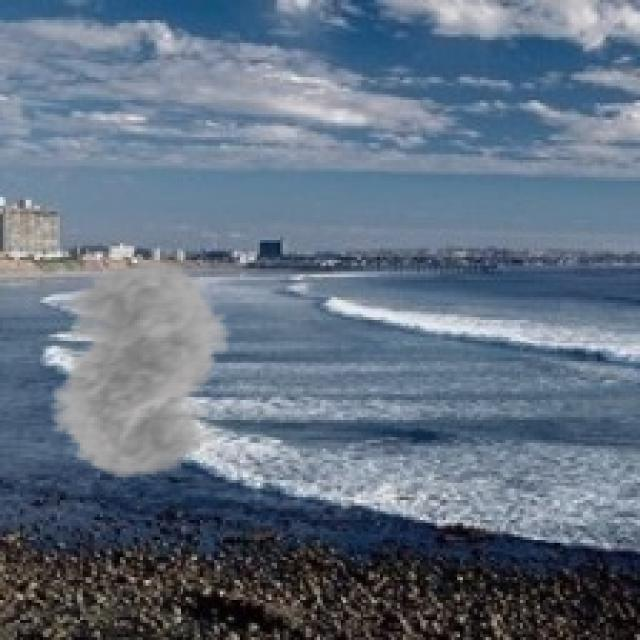Smoke: (25, 260, 248, 480)
